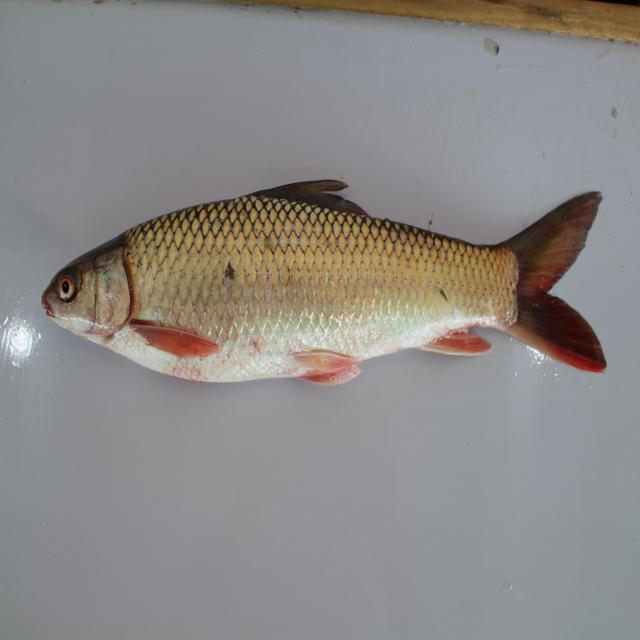Mori: (59, 156, 622, 398)
